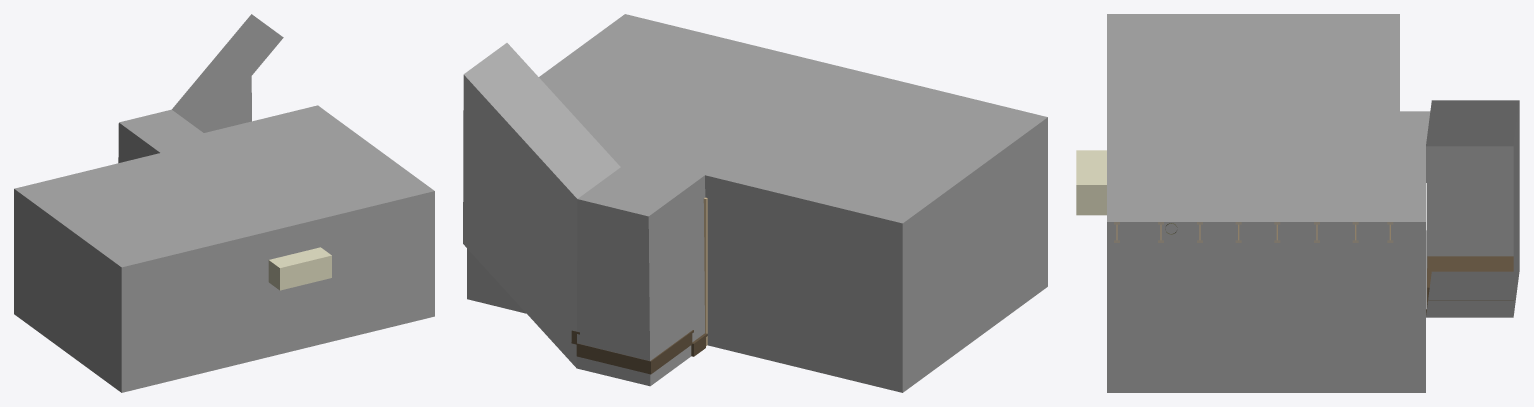
The model's file is basement draft 06.fbx.
3 views of the same model, side by side, from view 1: azimuth 30°, elevation 25°; view 2: azimuth 150°, elevation 25°; view 3: azimuth 270°, elevation 25° (orthographic). The views are drawn at different scales.
Visible parts, largest first — view 1: Floor___Walls_x3_geo1, pCube64; view 2: Floor___Walls_x3_geo1, Stair_2_geo, door_frame_geo; view 3: Floor___Walls_x3_geo1, pCube64, Stair_2_geo.
Boxes of the visible parts, x1=… form: Floor___Walls_x3_geo1: x1=14, y1=14, x2=434, y2=392; pCube64: x1=268, y1=247, x2=331, y2=290; Floor___Walls_x3_geo1: x1=463, y1=14, x2=1047, y2=392; Stair_2_geo: x1=576, y1=330, x2=693, y2=374; door_frame_geo: x1=703, y1=197, x2=707, y2=345; Floor___Walls_x3_geo1: x1=1107, y1=14, x2=1519, y2=392; pCube64: x1=1076, y1=150, x2=1106, y2=215; Stair_2_geo: x1=1427, y1=256, x2=1513, y2=275.
Size of the model in its own units: 205 by 125 by 184.
